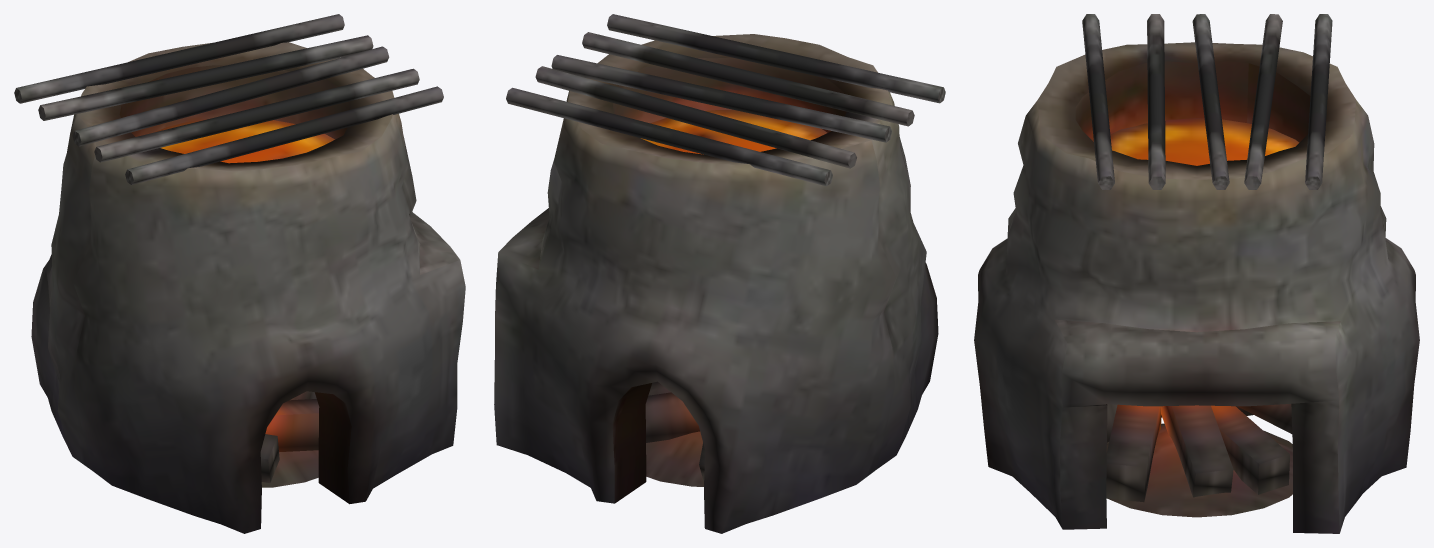
Rendered from SM_BlastFurnacePrimitive_cc87d1.glb.
The picture shows the model from 3 angles, left to right: view 1: azimuth 30°, elevation 25°; view 2: azimuth 150°, elevation 25°; view 3: azimuth 270°, elevation 25°; orthographic projection. The views are drawn at different scales.
Bounding box in the file's own units: 0.9622 × 0.9387 × 1.03.
1 material, 1 textured.
